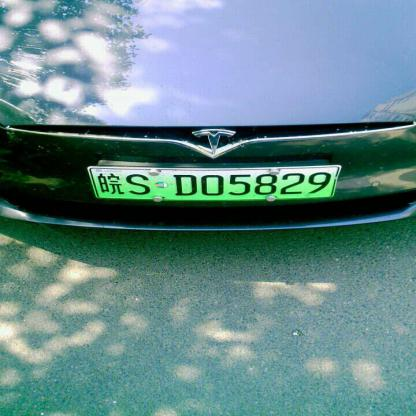lp: (87, 164, 340, 198)
